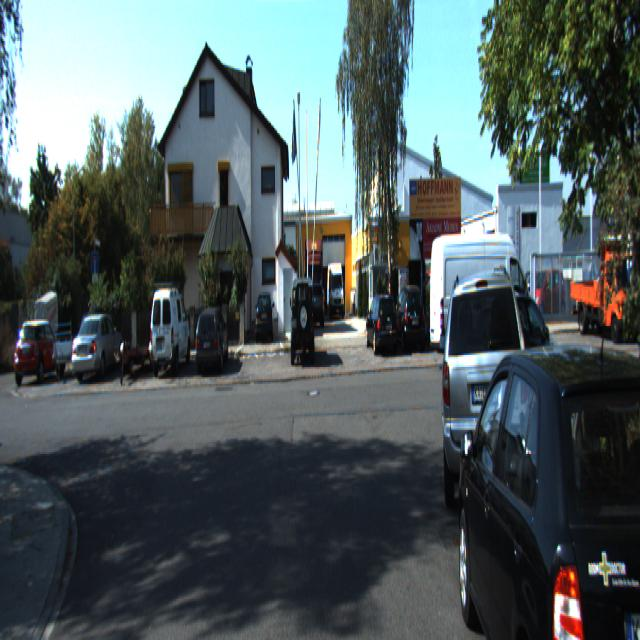Car: (452, 330, 640, 638), (441, 249, 532, 521), (426, 220, 541, 364), (568, 223, 640, 332), (150, 280, 192, 374), (72, 311, 126, 382), (100, 333, 168, 384), (16, 326, 65, 393), (388, 285, 426, 355), (46, 317, 87, 378), (194, 305, 230, 374), (364, 287, 399, 353), (289, 274, 314, 364), (34, 289, 61, 354), (304, 234, 322, 319), (326, 255, 343, 317), (254, 289, 273, 342)
